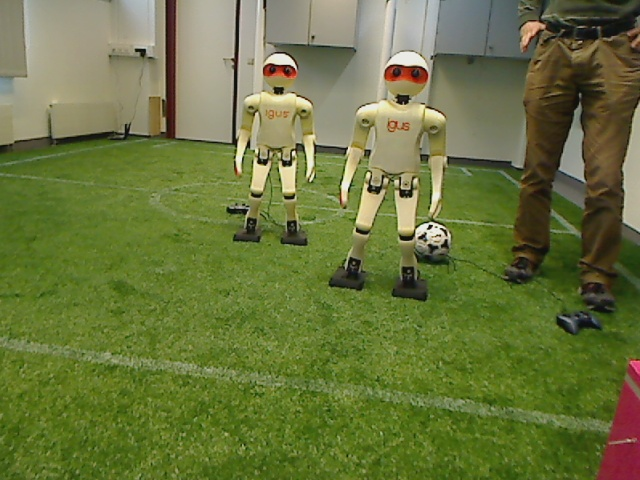ball: (411, 221, 453, 262)
robot: (330, 50, 445, 301), (231, 51, 315, 248)
